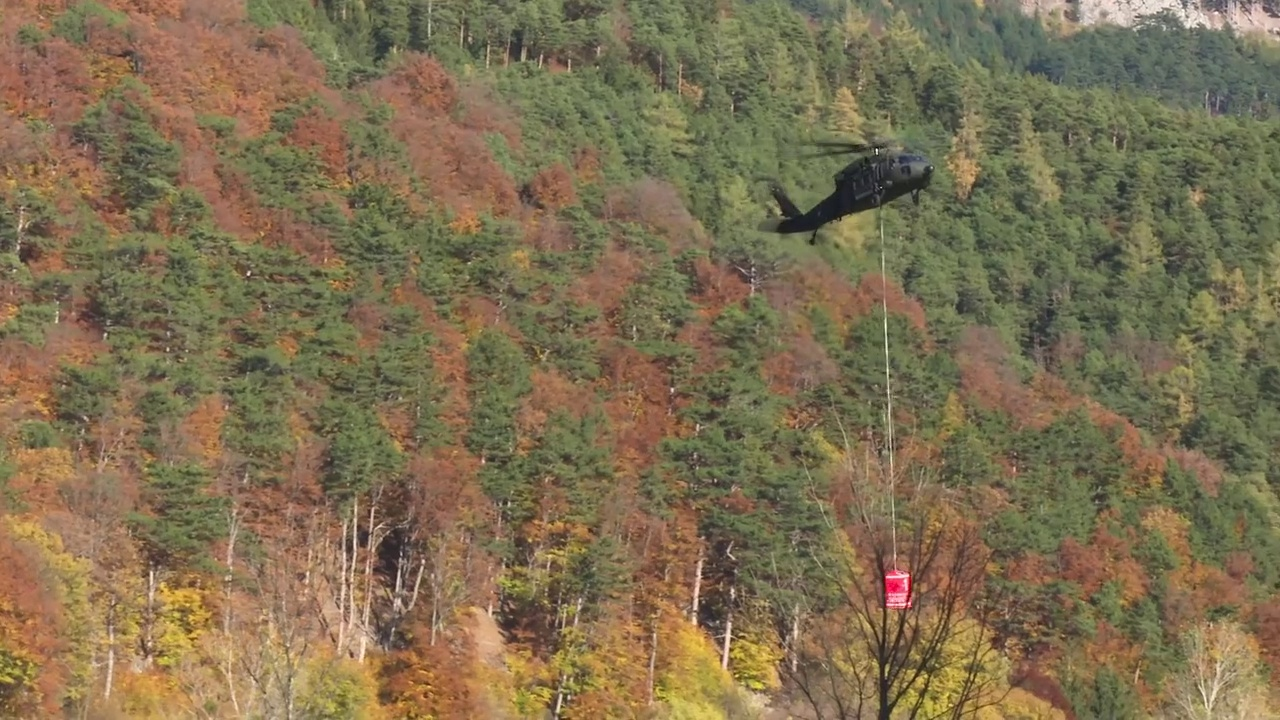heli: (758, 137, 934, 234)
